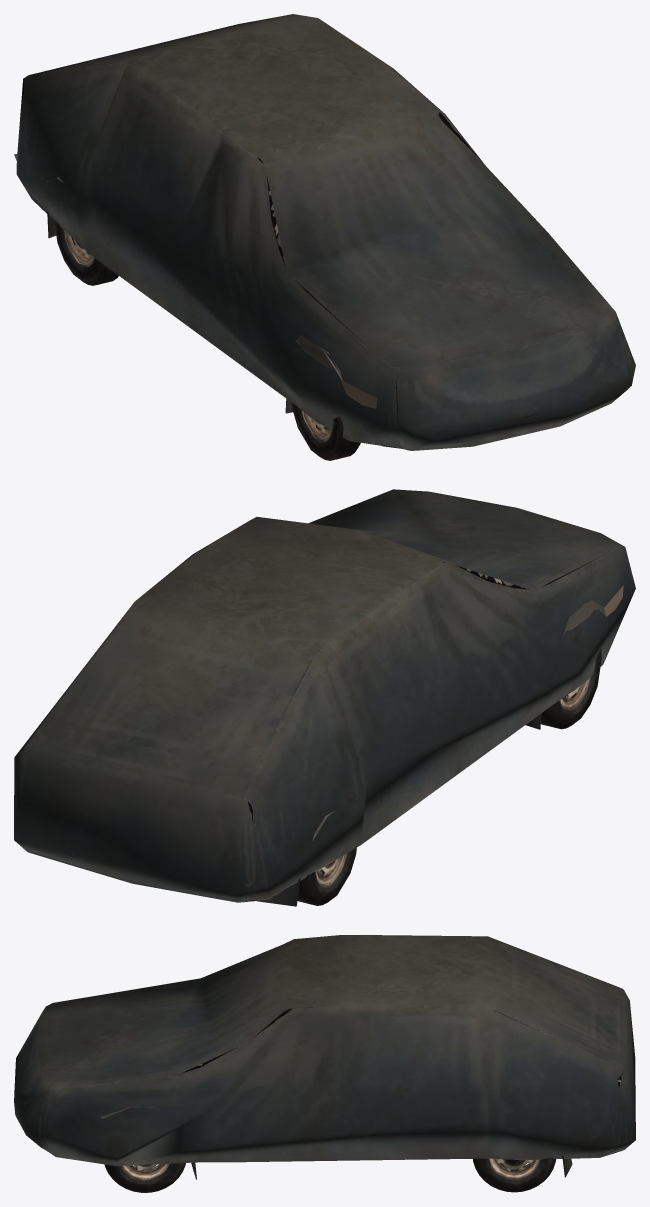
Rendered from covered_car.glb.
3 views of the same model, one above another, from view 1: azimuth 30°, elevation 25°; view 2: azimuth 150°, elevation 25°; view 3: azimuth 270°, elevation 25° (orthographic). The views are drawn at different scales.
Parts seen in each view (by area): view 1: covered_car, covered_car_wheel_02, covered_car_wheel_03; view 2: covered_car, covered_car_wheel_03, covered_car_wheel_02; view 3: covered_car, covered_car_wheel_04, covered_car_wheel_01.
Part boxes in pixels (x1,y1,x2,y2): covered_car: [14, 14, 635, 450]; covered_car_wheel_02: [291, 402, 360, 460]; covered_car_wheel_03: [54, 219, 118, 285]; covered_car: [14, 489, 635, 906]; covered_car_wheel_03: [297, 847, 356, 905]; covered_car_wheel_02: [541, 648, 601, 729]; covered_car: [14, 935, 635, 1179]; covered_car_wheel_04: [473, 1157, 555, 1192]; covered_car_wheel_01: [104, 1163, 185, 1192].
Size of the model in its own units: 1.78 by 1.39 by 4.34.
1 material, 1 textured.
